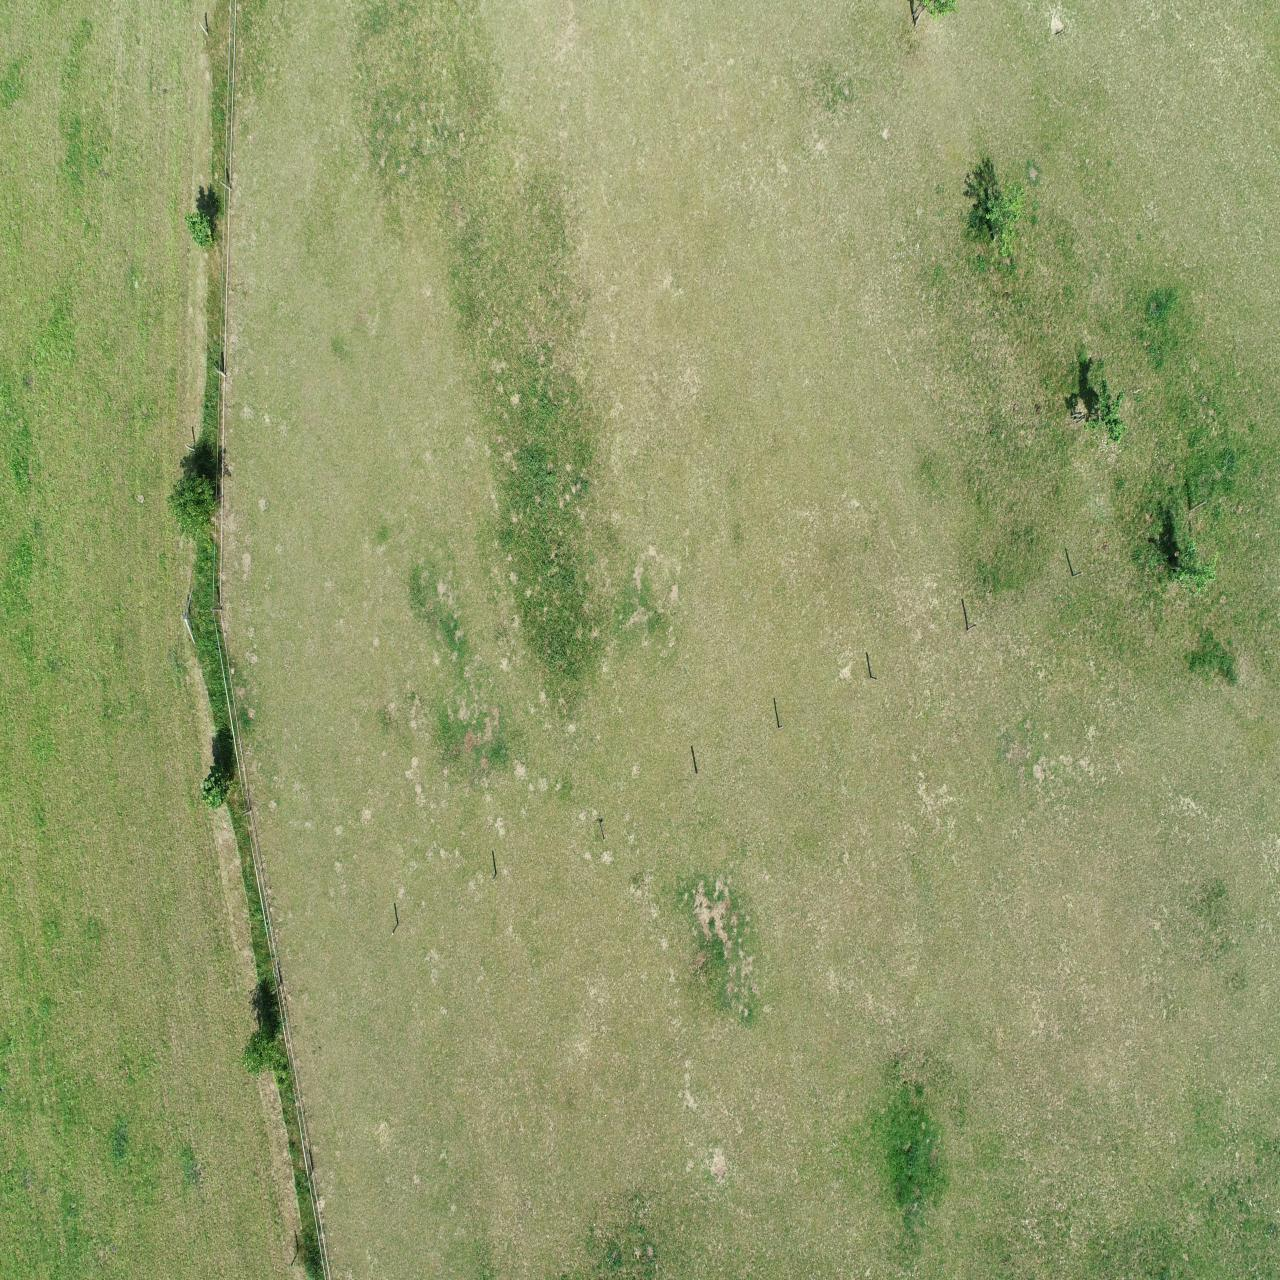cow: (238, 1043, 273, 1091), (268, 1226, 306, 1266), (328, 1107, 356, 1159), (182, 1131, 216, 1170), (188, 1221, 216, 1266), (233, 1126, 256, 1180)
